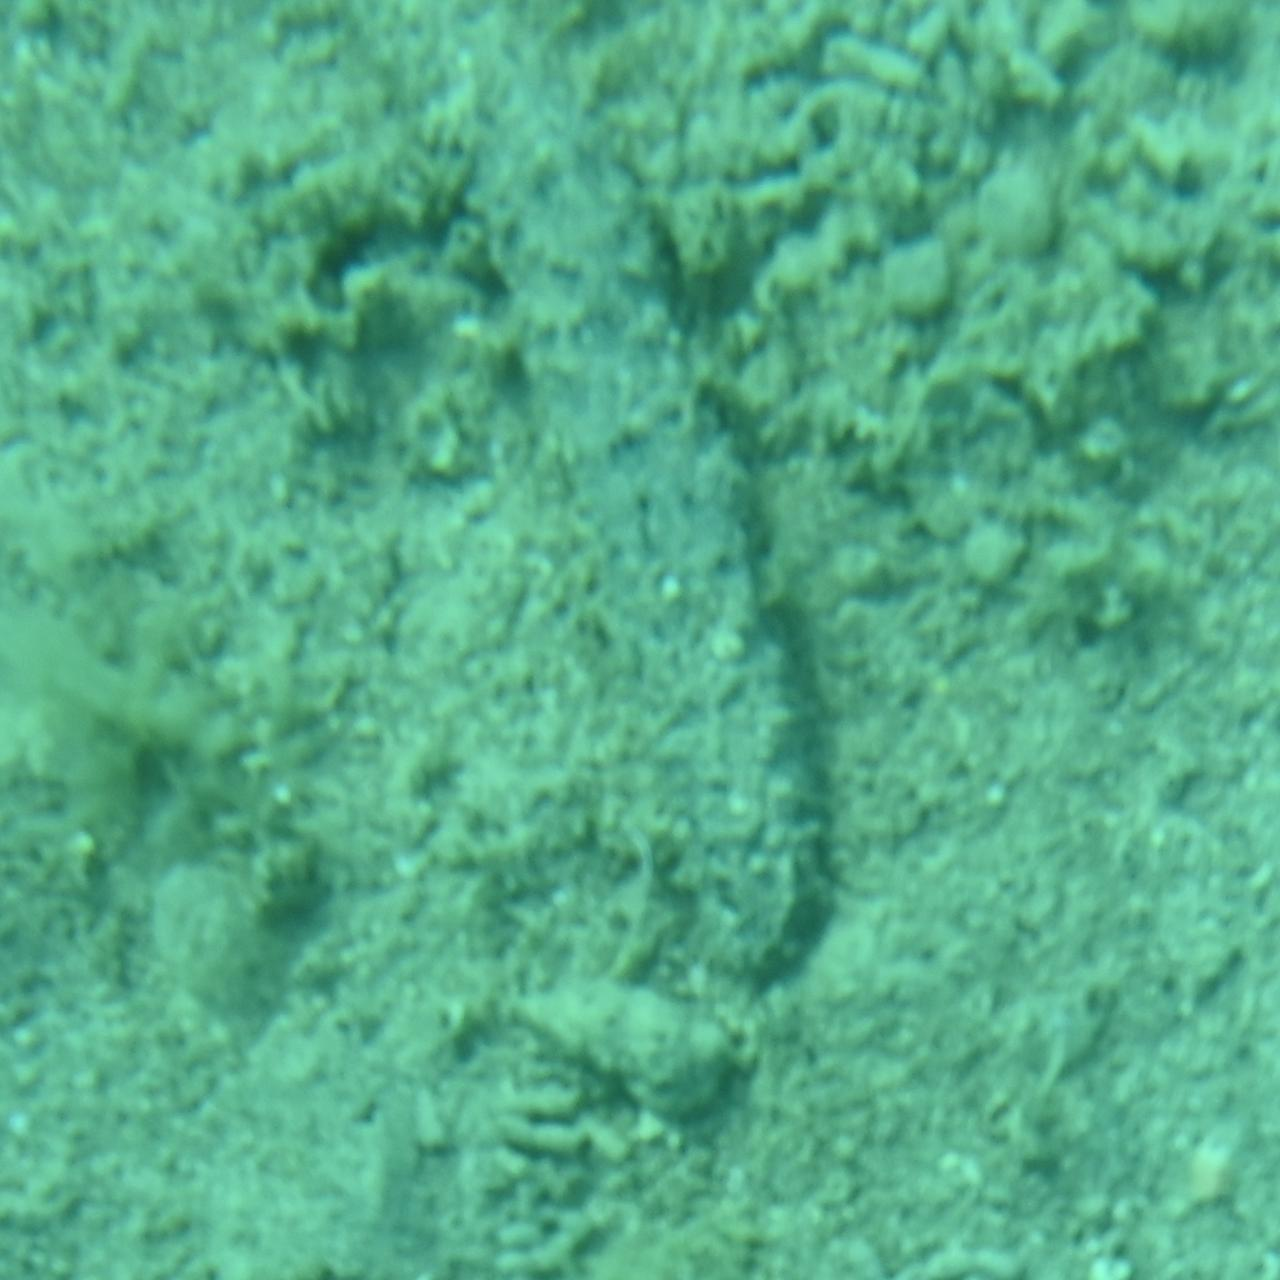Holothuria tubulosa: (437, 11, 843, 1001)
